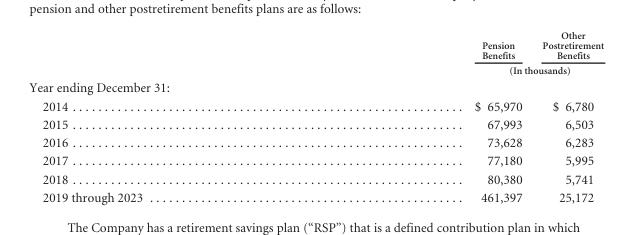table: (28, 29, 603, 204)
table column: (28, 29, 307, 204), (307, 29, 531, 204), (531, 29, 603, 204)
table column header: (28, 29, 603, 77)
table projected row header: (28, 77, 603, 96)
table row: (28, 29, 603, 62), (28, 77, 603, 96), (28, 114, 603, 133), (28, 169, 603, 188), (28, 96, 603, 114), (28, 133, 603, 151), (28, 151, 603, 169), (28, 188, 603, 204), (28, 62, 603, 77)
table spanning cell: (307, 62, 603, 77)
